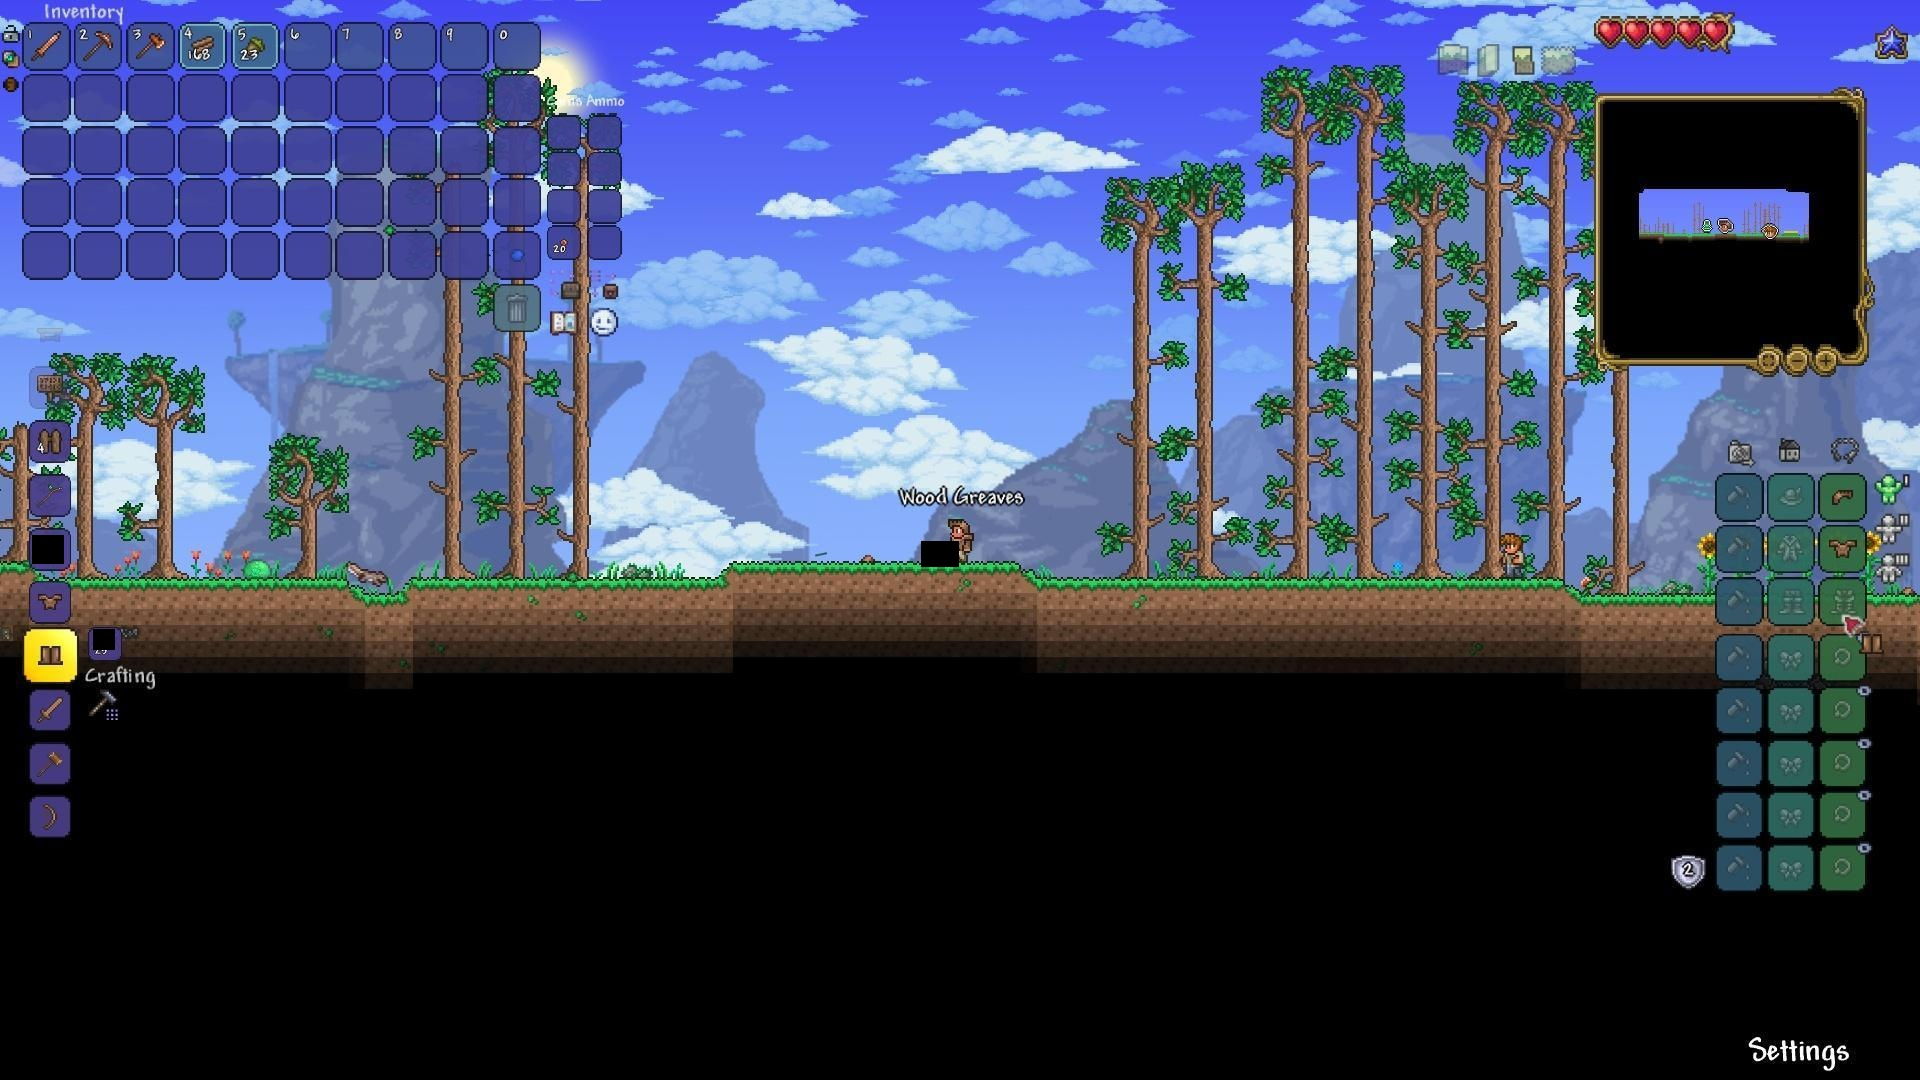breastplate: (36, 591, 62, 613), (1832, 538, 1859, 558)
helmet: (1826, 483, 1858, 510)
legs: (36, 641, 63, 669)
slime: (243, 560, 269, 583)
wood: (187, 33, 216, 58)
